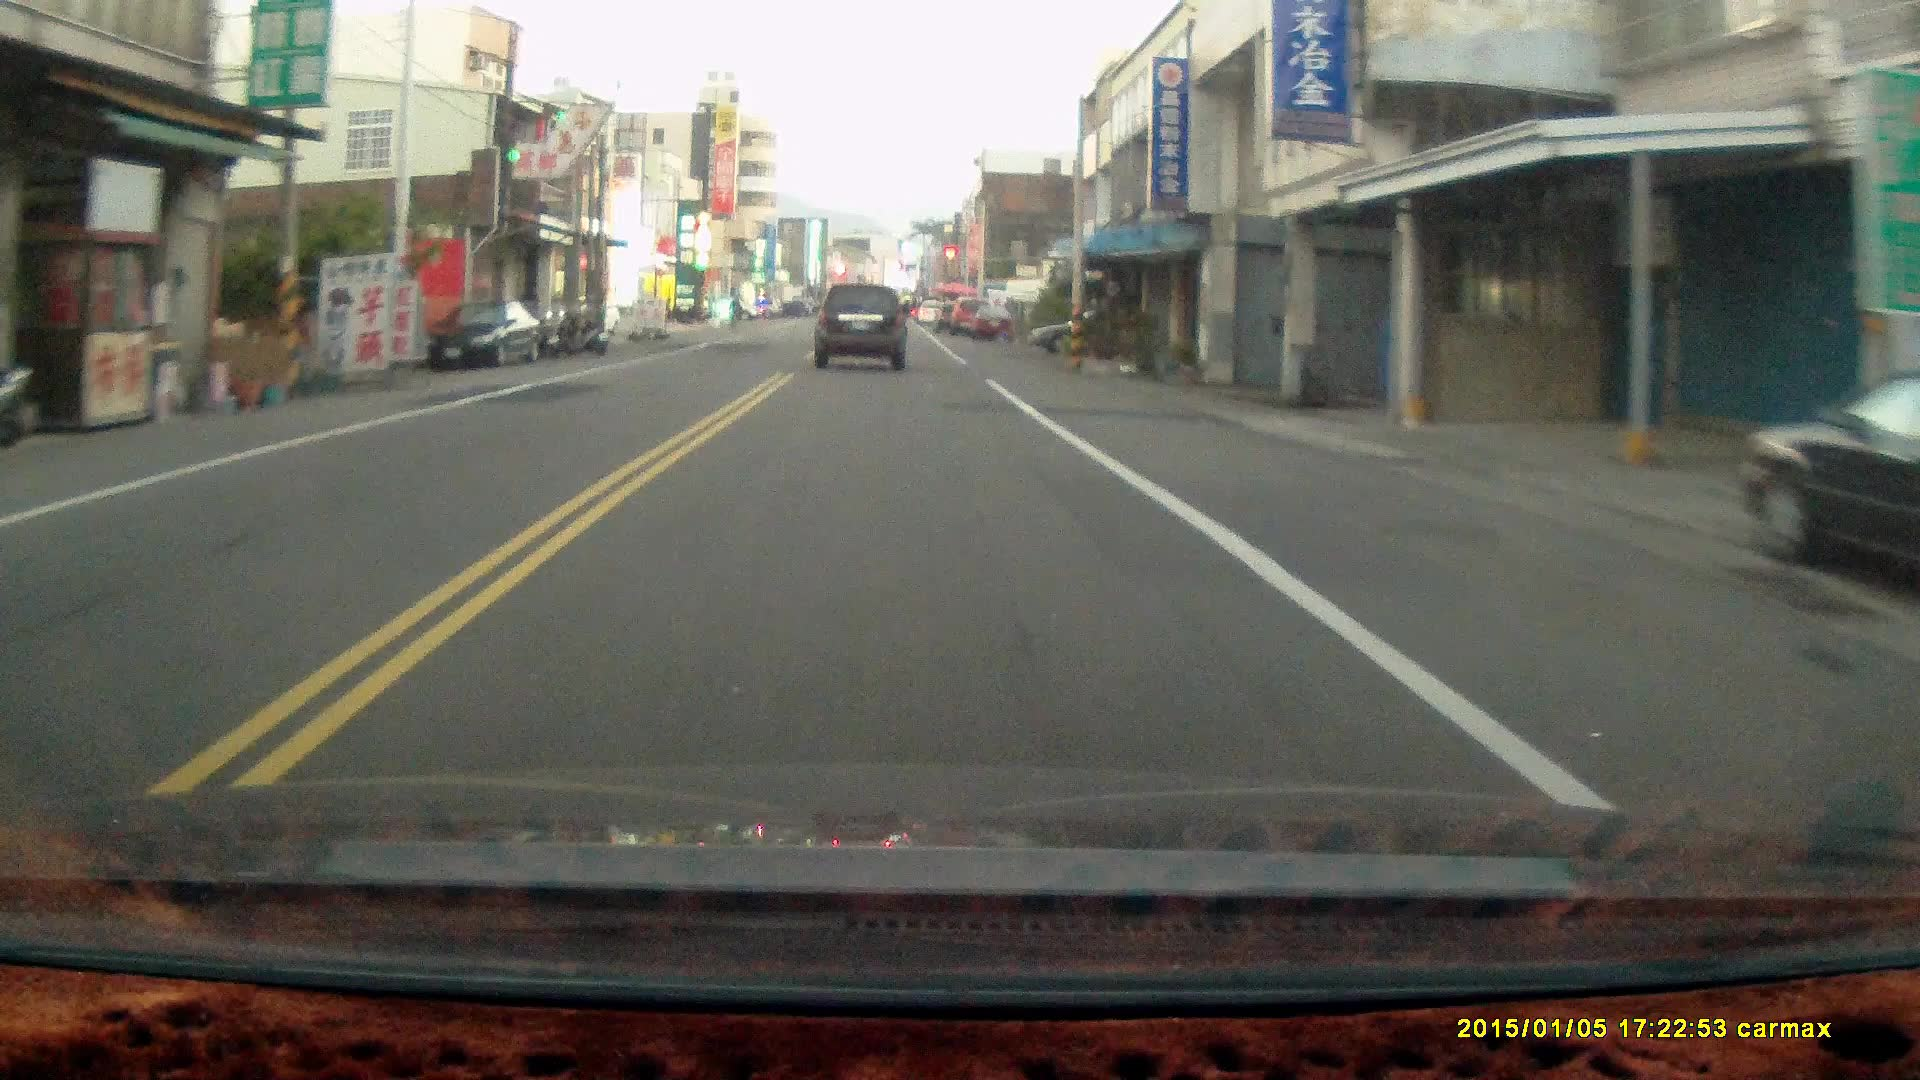vehicle: (1738, 356, 1920, 601), (423, 295, 546, 371), (816, 281, 910, 369)
